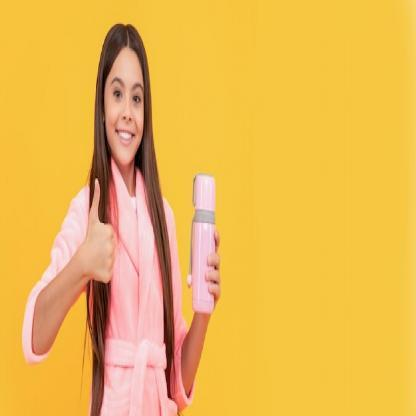thumb_up: (84, 175, 118, 290)
